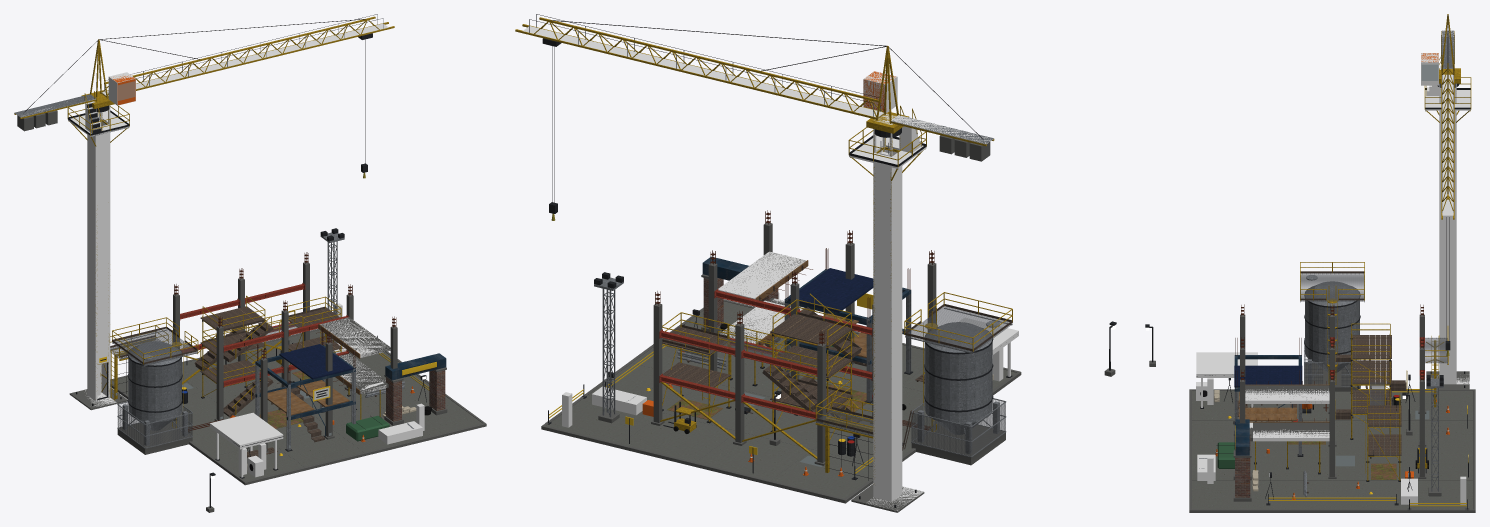
Rendered from construction-ad.glb.
3 renders of one model, left to right at view 1: azimuth 30°, elevation 25°; view 2: azimuth 150°, elevation 25°; view 3: azimuth 270°, elevation 25°, orthographic. The views are drawn at different scales.
Parts seen in each view (by area): view 1: MESH_CONSTRUCTION_BASE_CONCRETE_SLAB_LOD0, MESH_CONSTRUCTION_CONCRETE_LOD0, MESH_CONSTRUCTION_GALVANIZED_LOD0, MESH_CONSTRUCTION_SAFETY_YELLOW_LOD0, MESH_CONSTRUCTION_WOOD_WEATHERED_LOD0, MESH_CONSTRUCTION_PALETTE_LOD0, MESH_CONSTRUCTION_GRATING_LOD0, COL_MOVE_CONSTRUCTION_CRANE_WALL_S, COL_MOVE_CONSTRUCTION_CRANE_WALL_W, MESH_CONSTRUCTION_STEEL_RED_LOD0, MESH_CONSTRUCTION_STEEL_NAVY_LOD0, COL_MOVE_CONSTRUCTION_SHELTER_ROOF (+9 smaller); view 2: MESH_CONSTRUCTION_BASE_CONCRETE_SLAB_LOD0, MESH_CONSTRUCTION_CONCRETE_LOD0, MESH_CONSTRUCTION_SAFETY_YELLOW_LOD0, MESH_CONSTRUCTION_GALVANIZED_LOD0, MESH_CONSTRUCTION_WOOD_WEATHERED_LOD0, MESH_CONSTRUCTION_PALETTE_LOD0, MESH_CONSTRUCTION_GRATING_LOD0, COL_MOVE_CONSTRUCTION_CRANE_WALL_N, MESH_CONSTRUCTION_STEEL_RED_LOD0, COL_MOVE_CONSTRUCTION_CRANE_WALL_W, COL_MOVE_CONSTRUCTION_CRANE_JIB_WALK, MESH_CONSTRUCTION_TARP_BLUE_SWAY_SHRUB_LOD0 (+12 smaller); view 3: MESH_CONSTRUCTION_BASE_CONCRETE_SLAB_LOD0, MESH_CONSTRUCTION_CONCRETE_LOD0, MESH_CONSTRUCTION_GALVANIZED_LOD0, MESH_CONSTRUCTION_WOOD_WEATHERED_LOD0, MESH_CONSTRUCTION_SAFETY_YELLOW_LOD0, MESH_CONSTRUCTION_PALETTE_LOD0, COL_MOVE_CONSTRUCTION_CRANE_WALL_E, MESH_CONSTRUCTION_GRATING_LOD0, COL_MOVE_CONSTRUCTION_CRANE_JIB_WALK, MESH_CONSTRUCTION_TARP_BLUE_SWAY_SHRUB_LOD0, COL_MOVE_CONSTRUCTION_SHELTER_ROOF, COL_MOVE_CONSTRUCTION_RP03_POUR_2 (+9 smaller).
Boxes of the visible parts, x1,y1,x2,y2 form: MESH_CONSTRUCTION_BASE_CONCRETE_SLAB_LOD0: [110, 330, 482, 481]; MESH_CONSTRUCTION_CONCRETE_LOD0: [17, 110, 486, 512]; MESH_CONSTRUCTION_GALVANIZED_LOD0: [15, 14, 413, 450]; MESH_CONSTRUCTION_SAFETY_YELLOW_LOD0: [14, 16, 394, 427]; MESH_CONSTRUCTION_WOOD_WEATHERED_LOD0: [110, 306, 376, 457]; MESH_CONSTRUCTION_PALETTE_LOD0: [23, 14, 447, 507]; MESH_CONSTRUCTION_GRATING_LOD0: [91, 119, 300, 447]; COL_MOVE_CONSTRUCTION_CRANE_WALL_S: [97, 132, 108, 364]; COL_MOVE_CONSTRUCTION_CRANE_WALL_W: [87, 135, 95, 400]; MESH_CONSTRUCTION_STEEL_RED_LOD0: [180, 283, 348, 387]; MESH_CONSTRUCTION_STEEL_NAVY_LOD0: [255, 345, 446, 436]; COL_MOVE_CONSTRUCTION_SHELTER_ROOF: [210, 412, 283, 448]; MESH_CONSTRUCTION_BASE_CONCRETE_SLAB_LOD0: [546, 301, 1015, 498]; MESH_CONSTRUCTION_CONCRETE_LOD0: [541, 135, 1115, 512]; MESH_CONSTRUCTION_SAFETY_YELLOW_LOD0: [515, 17, 1012, 476]; MESH_CONSTRUCTION_GALVANIZED_LOD0: [529, 14, 1012, 457]; MESH_CONSTRUCTION_WOOD_WEATHERED_LOD0: [662, 265, 1012, 450]; MESH_CONSTRUCTION_PALETTE_LOD0: [530, 14, 1116, 507]; MESH_CONSTRUCTION_GRATING_LOD0: [720, 145, 1012, 456]; COL_MOVE_CONSTRUCTION_CRANE_WALL_N: [875, 163, 892, 501]; MESH_CONSTRUCTION_STEEL_RED_LOD0: [659, 289, 872, 419]; COL_MOVE_CONSTRUCTION_CRANE_WALL_W: [890, 166, 902, 501]; COL_MOVE_CONSTRUCTION_CRANE_JIB_WALK: [523, 26, 883, 117]; MESH_CONSTRUCTION_TARP_BLUE_SWAY_SHRUB_LOD0: [788, 268, 873, 312]; MESH_CONSTRUCTION_BASE_CONCRETE_SLAB_LOD0: [1192, 391, 1472, 509]; MESH_CONSTRUCTION_CONCRETE_LOD0: [1149, 35, 1475, 512]; MESH_CONSTRUCTION_GALVANIZED_LOD0: [1199, 30, 1454, 497]; MESH_CONSTRUCTION_WOOD_WEATHERED_LOD0: [1237, 271, 1406, 493]; MESH_CONSTRUCTION_SAFETY_YELLOW_LOD0: [1255, 14, 1471, 480]; MESH_CONSTRUCTION_PALETTE_LOD0: [1145, 15, 1472, 510]; COL_MOVE_CONSTRUCTION_CRANE_WALL_E: [1439, 110, 1456, 384]; MESH_CONSTRUCTION_GRATING_LOD0: [1300, 273, 1447, 405]; COL_MOVE_CONSTRUCTION_CRANE_JIB_WALK: [1442, 74, 1453, 216]; MESH_CONSTRUCTION_TARP_BLUE_SWAY_SHRUB_LOD0: [1234, 365, 1302, 387]; COL_MOVE_CONSTRUCTION_SHELTER_ROOF: [1196, 352, 1257, 377]; COL_MOVE_CONSTRUCTION_RP03_POUR_2: [1245, 389, 1329, 403].
Size of what is drawn, in the model's own units: 34.5 by 31.62 by 25.72.
19 materials, 15 textured.
